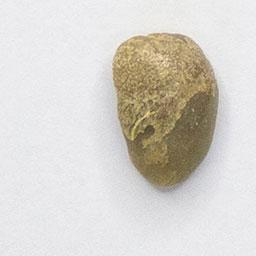longberry: (110, 28, 221, 191)
